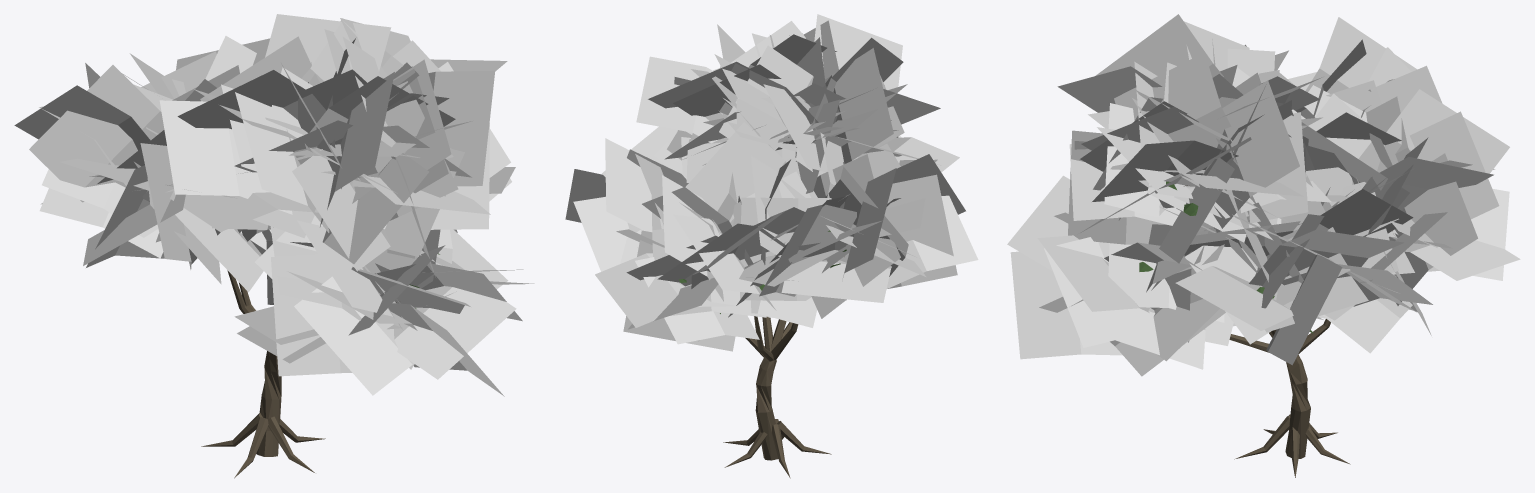
File: CheneVert_Jeune_LOD2.fbx
3 renders of one model, left to right at view 1: azimuth 30°, elevation 25°; view 2: azimuth 150°, elevation 25°; view 3: azimuth 270°, elevation 25°, orthographic. The views are drawn at different scales.
Visible parts, largest first — view 1: CheneVert_Jeune_LOD2; view 2: CheneVert_Jeune_LOD2; view 3: CheneVert_Jeune_LOD2.
Boxes of the visible parts, <box> form: CheneVert_Jeune_LOD2: <box>14,14,534,478</box>; CheneVert_Jeune_LOD2: <box>565,14,978,478</box>; CheneVert_Jeune_LOD2: <box>1007,14,1520,477</box>.
Size of the model in its own units: 495 by 472 by 526.
